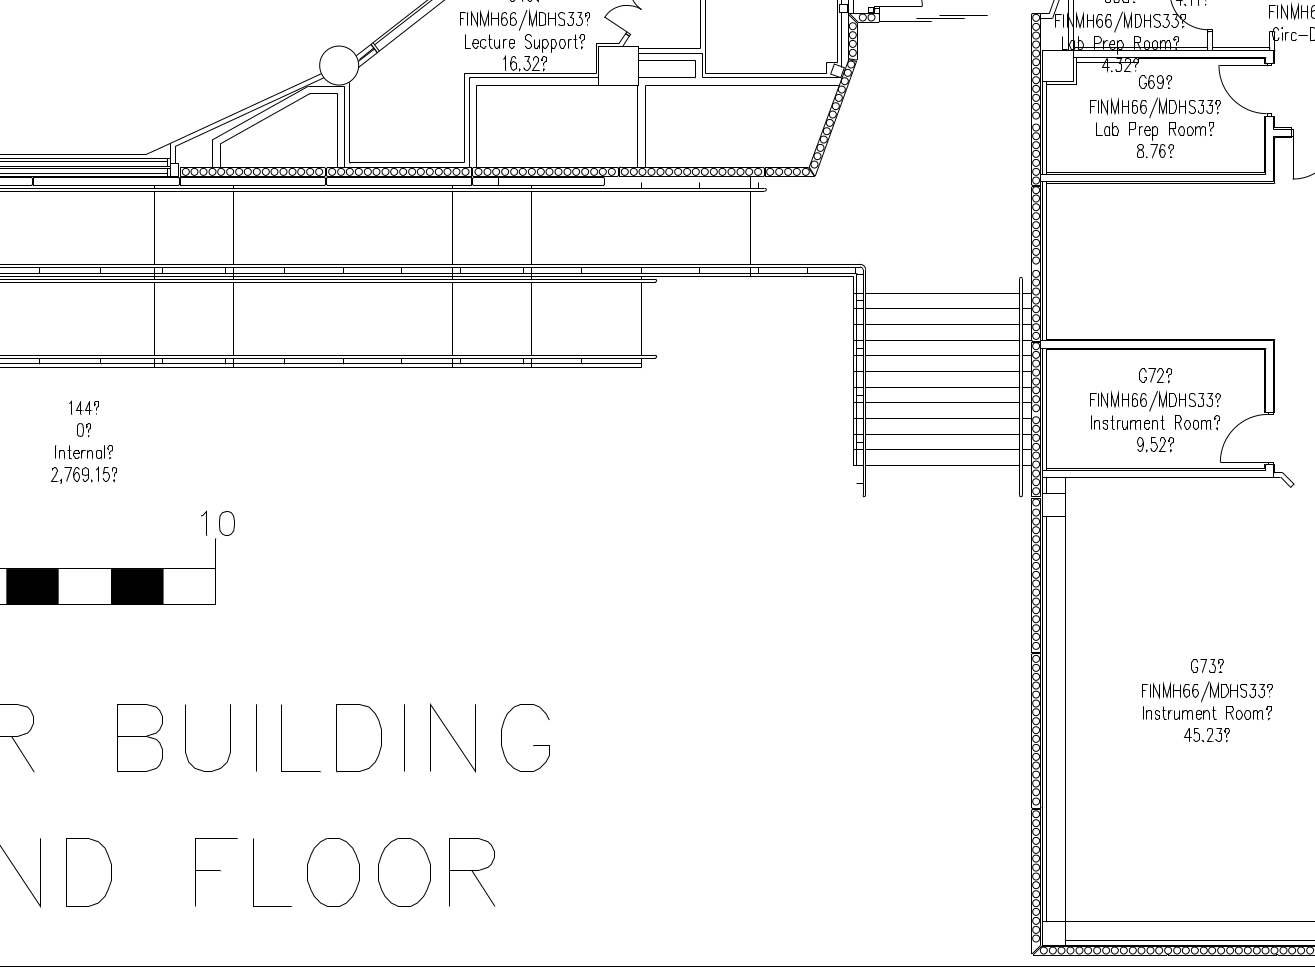door: (1214, 61, 1269, 120), (1211, 408, 1266, 468), (598, 1, 651, 40)
